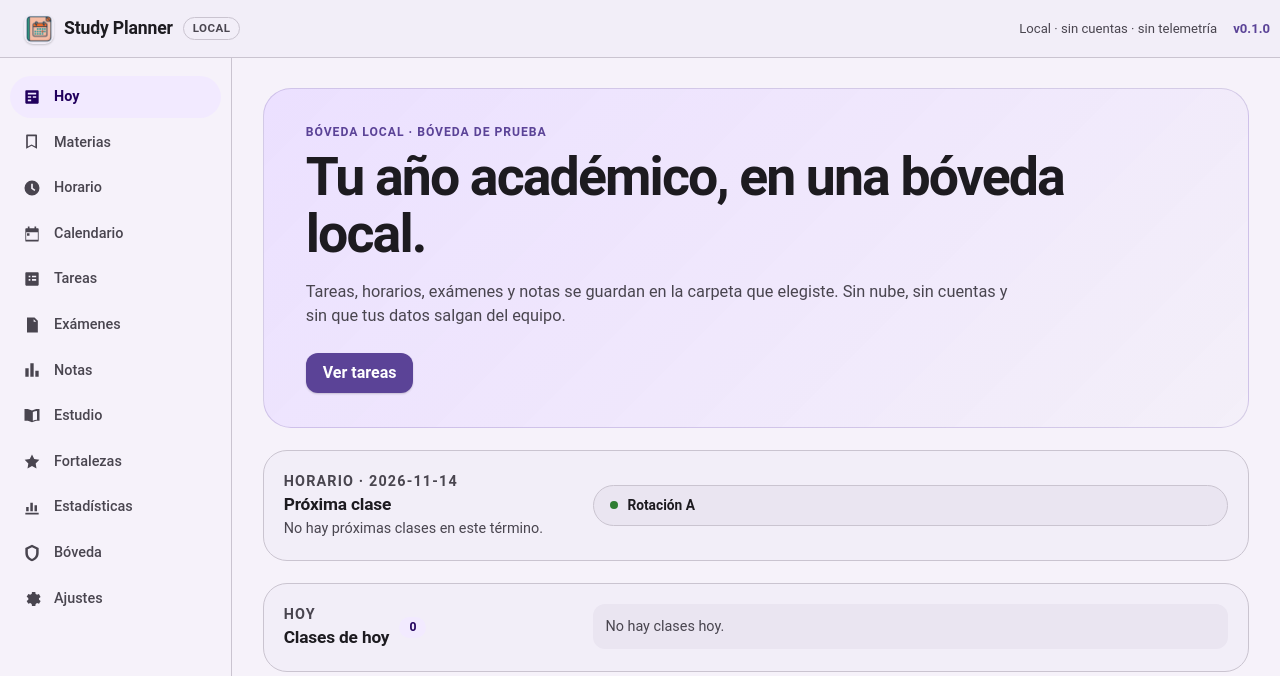
App con IPC de Tauri › registra un repaso SM-2 desde Fortalezas
Click the button "Fortalezas" at (116, 462), box [10,441,221,482]
(page scrolled)
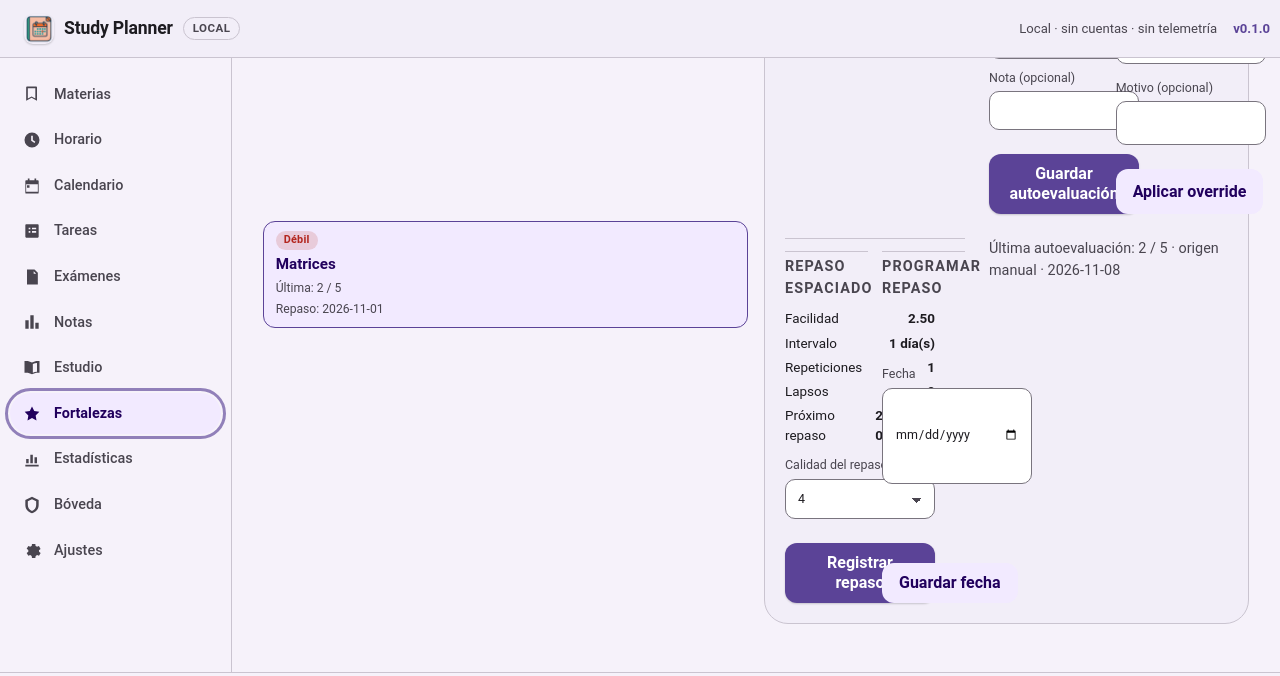
Select "5" in the dropdown labelled "Calidad del repaso" at (860, 499), box [785,479,935,519]
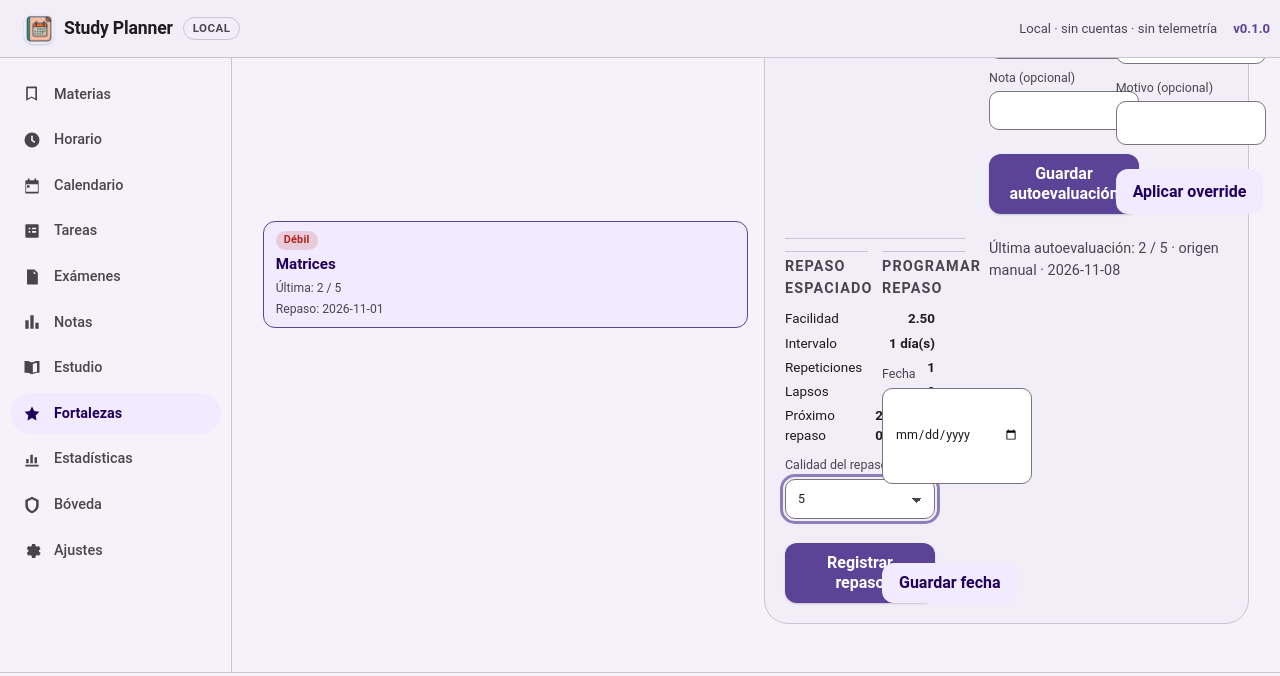
Click the button "Registrar repaso" at (860, 573), box [785,543,935,603]
(page scrolled)
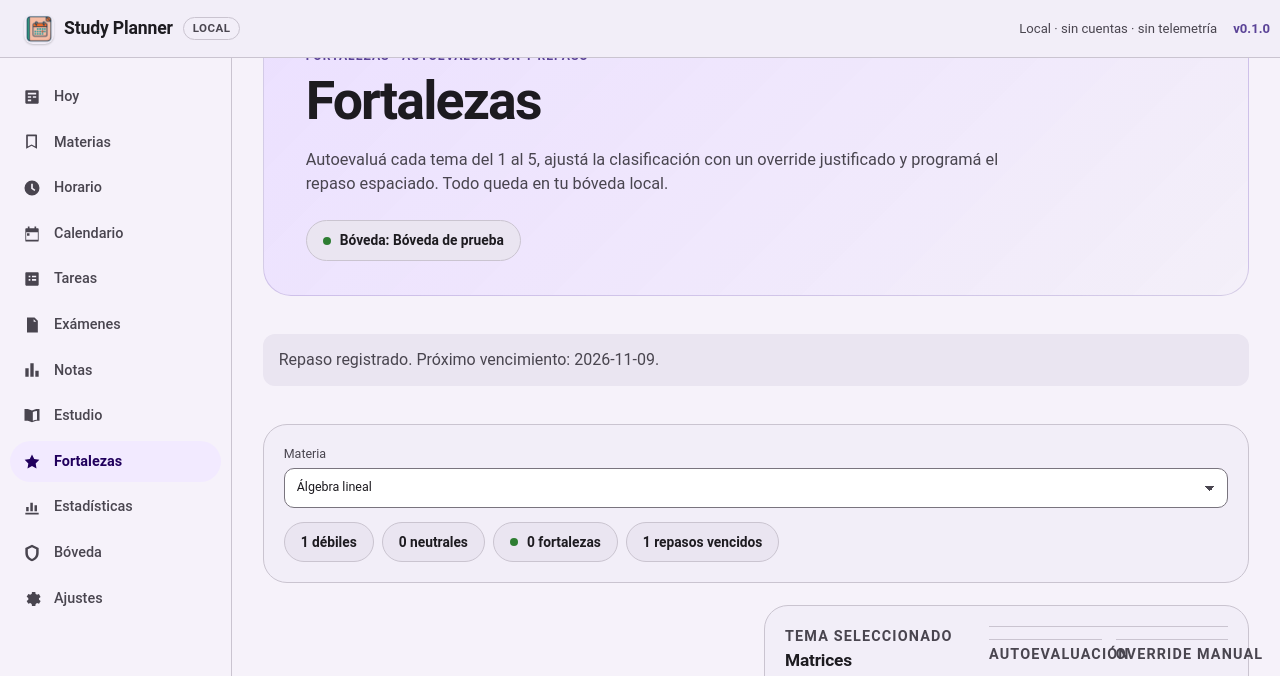
expect the text "Repaso registrado. Próximo vencimiento: 2026-11-09." is shown: met, box [263,334,1249,386]
